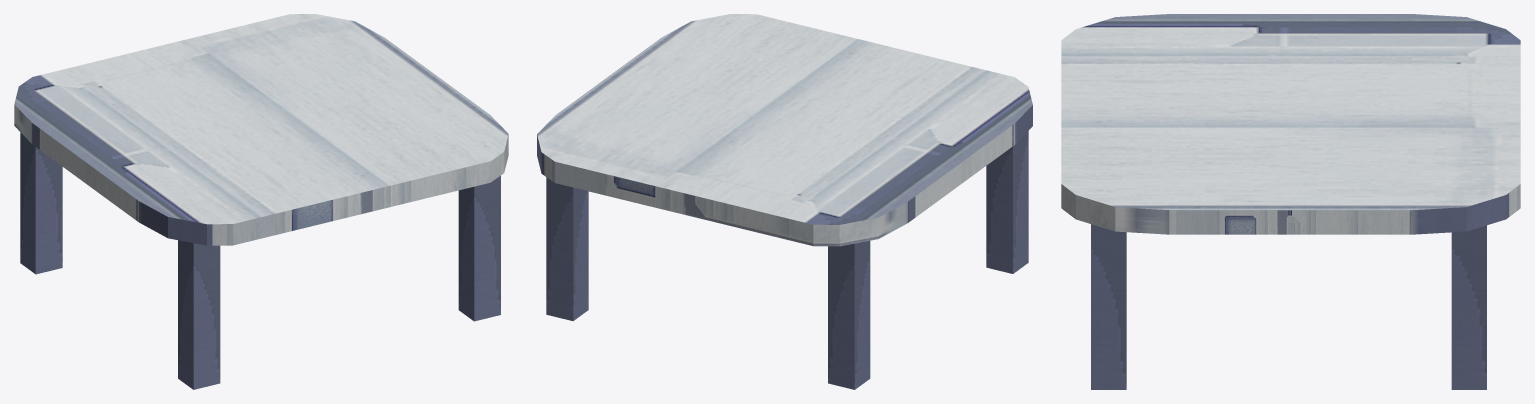
Rendered from Coffee Table.fbx.
3 views of the same model, side by side, from view 1: azimuth 30°, elevation 25°; view 2: azimuth 150°, elevation 25°; view 3: azimuth 270°, elevation 25° (orthographic). The views are drawn at different scales.
Parts seen in each view (by area): view 1: Bedside Table.001; view 2: Bedside Table.001; view 3: Bedside Table.001.
Part boxes in pixels (x1=…): Bedside Table.001: x1=14, y1=14, x2=508, y2=389; Bedside Table.001: x1=537, y1=14, x2=1032, y2=389; Bedside Table.001: x1=1061, y1=14, x2=1520, y2=389.
Size of the model in its own units: 219 by 100 by 216.
